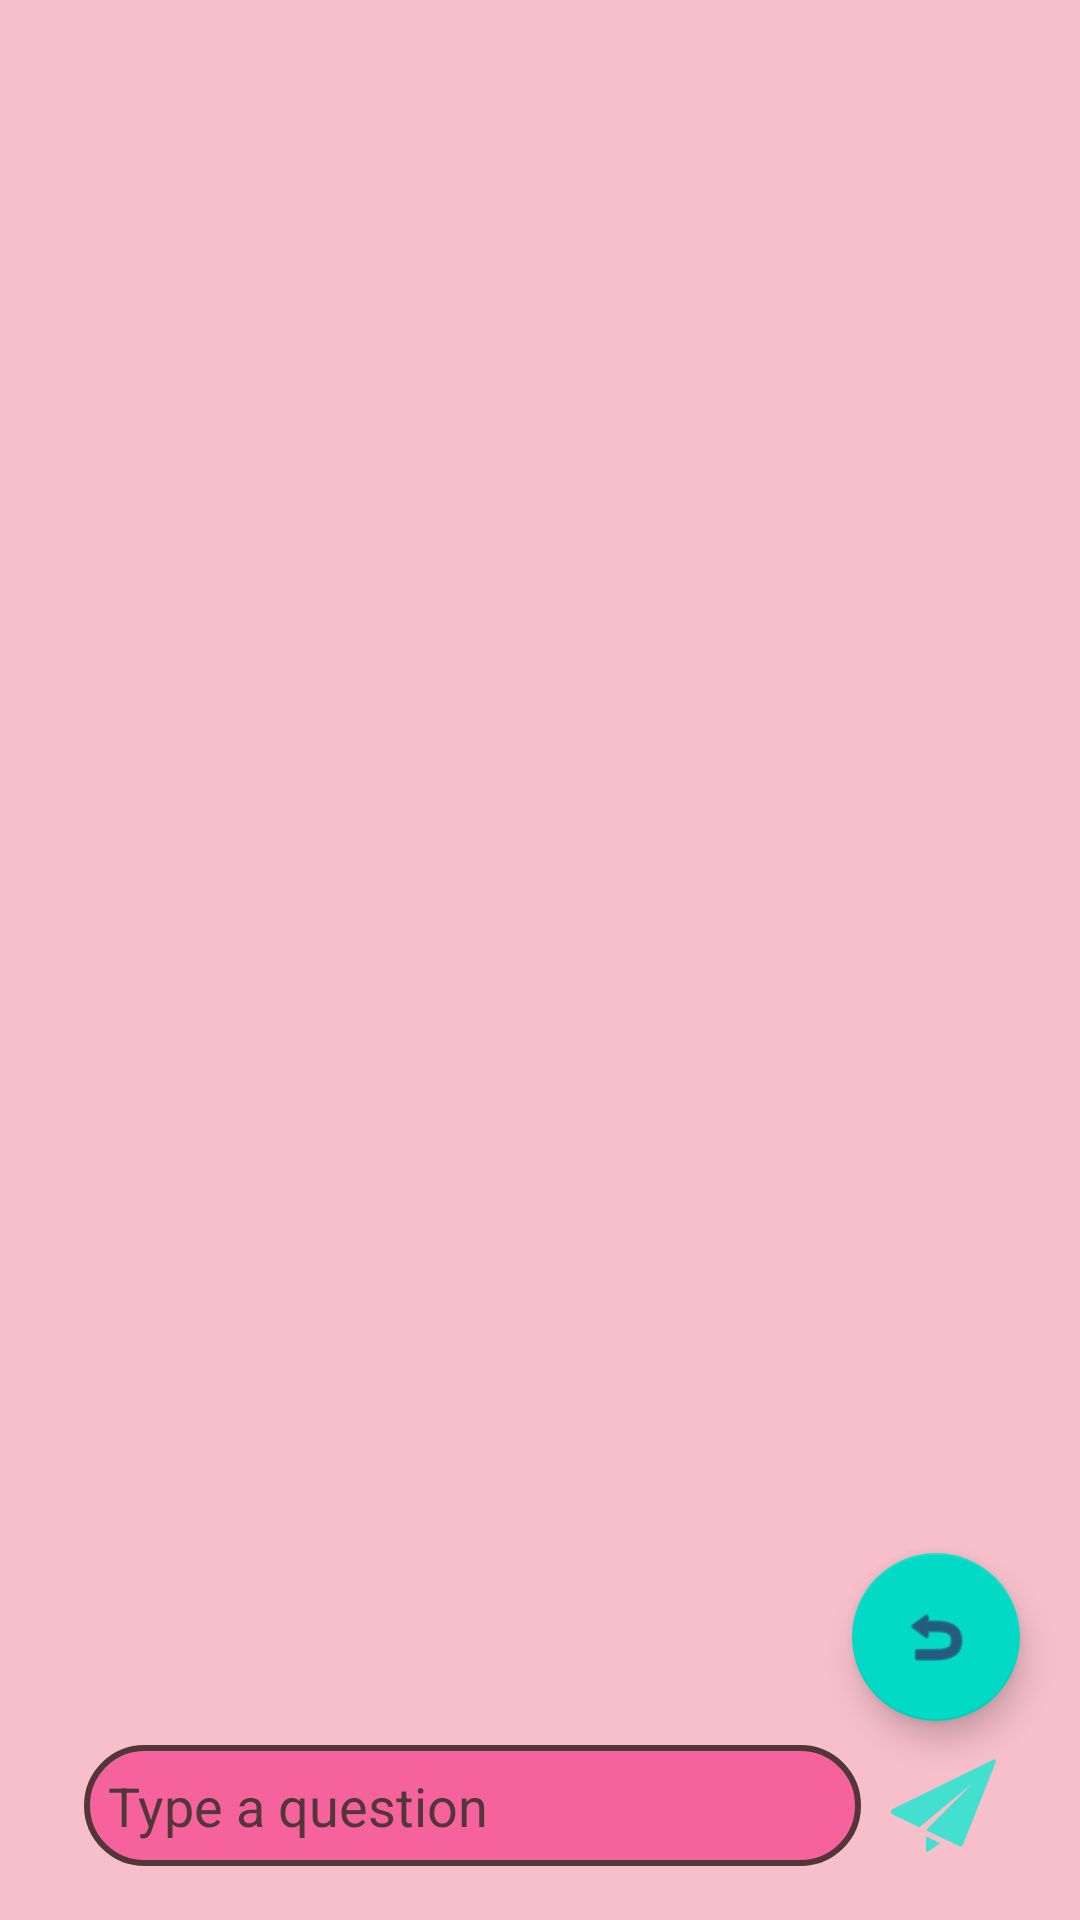

Icons on this 1080×1920 Android screen, each with the point to tap as (x,y):
revert: (936,1637)
Send message: (943,1805)
